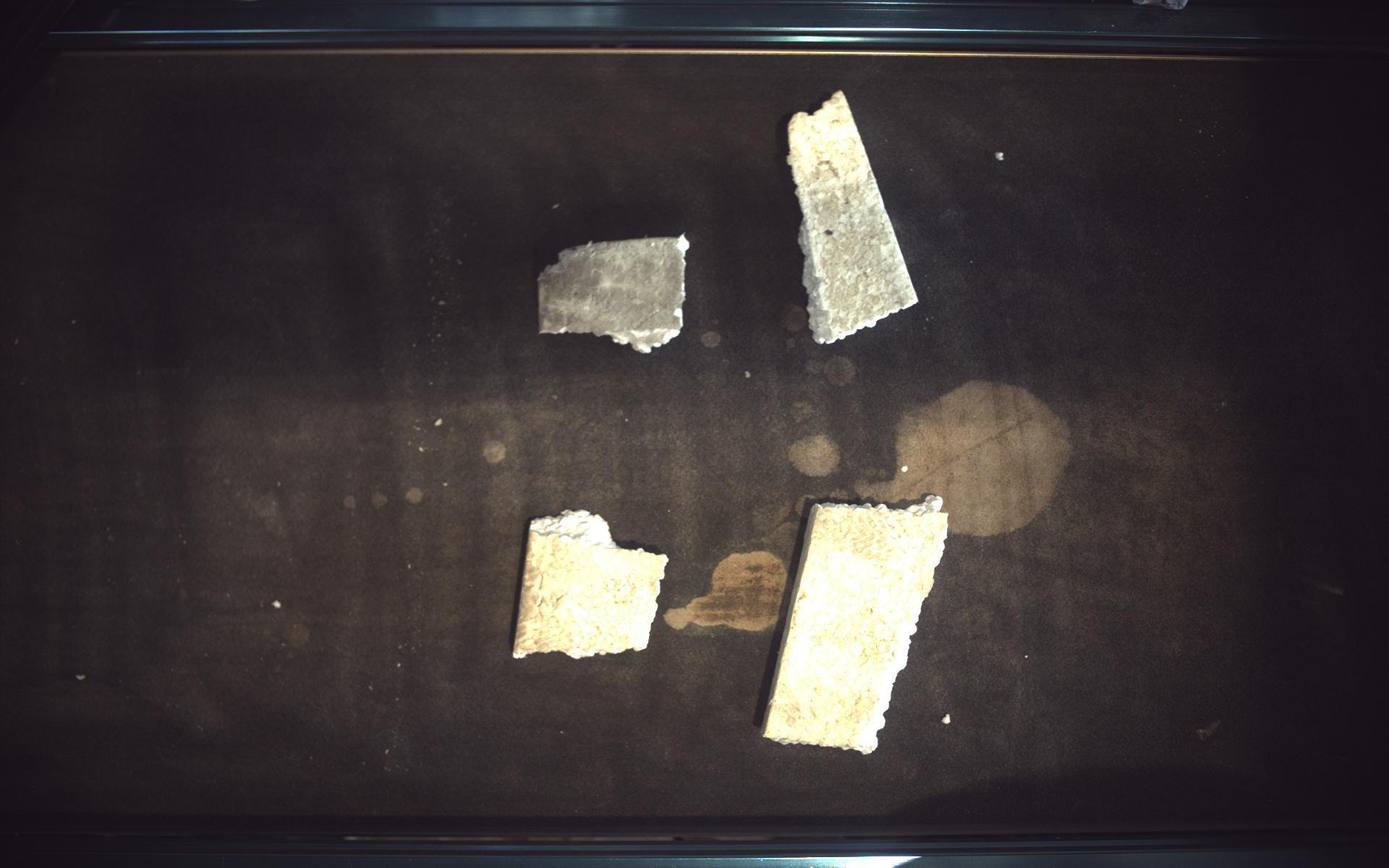foam: (764, 495, 950, 754), (789, 90, 919, 344), (513, 511, 668, 660), (538, 236, 690, 353)
